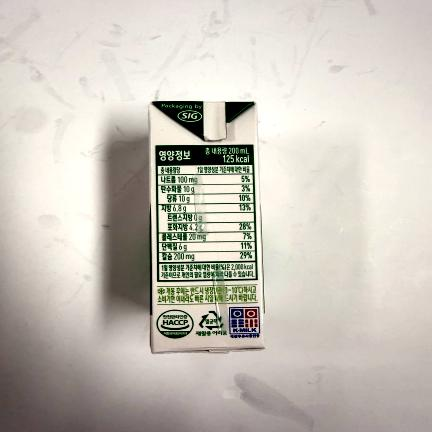milk_green: (150, 100, 267, 354)
